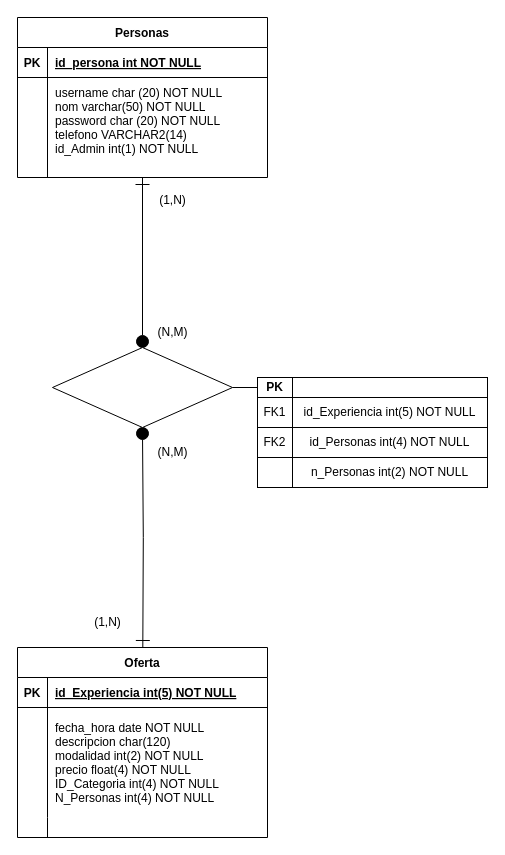
Image size: 505x855. Some labels were removed from this diagram. Each missing label, with the centre of its shape:
"id_Reserva int (6) NOT NULL" belongs at pixel 390 387.
"Reserva" belongs at pixel 142 387.
